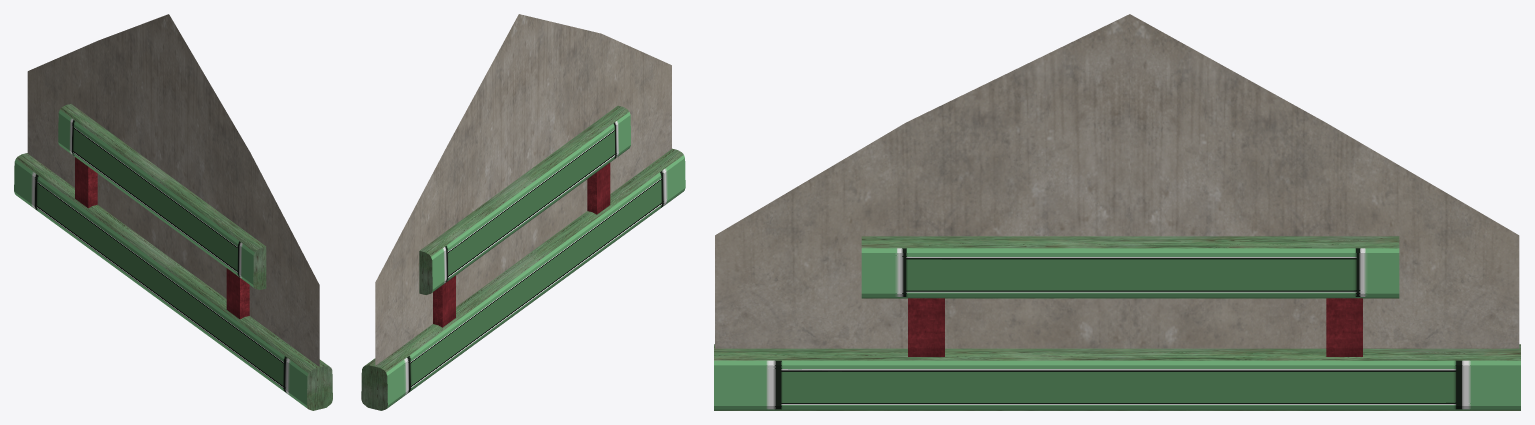
The model's file is SM_R_MiddleBeam_2.fbx.
3 views of the same model, side by side, from view 1: azimuth 30°, elevation 25°; view 2: azimuth 150°, elevation 25°; view 3: azimuth 270°, elevation 25° (orthographic). The views are drawn at different scales.
Visible parts, largest first — view 1: SM_R_MiddleBeam_2; view 2: SM_R_MiddleBeam_2; view 3: SM_R_MiddleBeam_2.
Part boxes in pixels (<box>): SM_R_MiddleBeam_2: <box>14,14,332,410</box>; SM_R_MiddleBeam_2: <box>361,14,685,410</box>; SM_R_MiddleBeam_2: <box>714,14,1520,410</box>.
Bounding box in the file's own units: 30 × 584 × 313.
3 materials, 3 textured.
